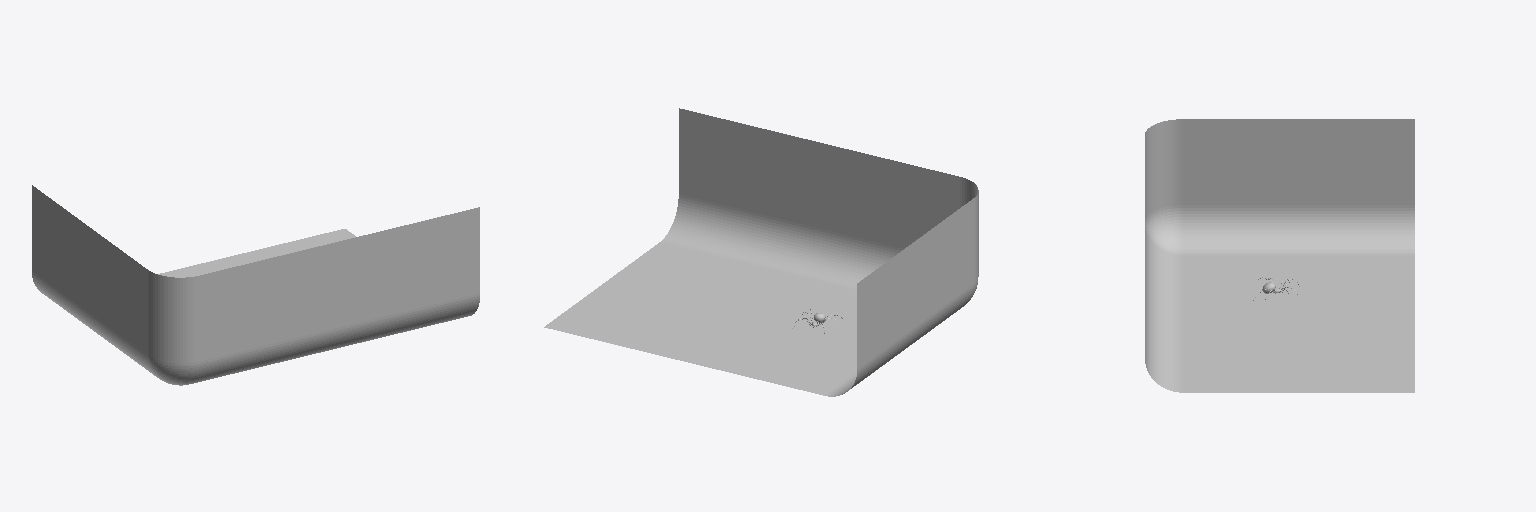
Rendered from uploads_files_2980032_BlackWidowSpider.obj.
3 renders of one model, left to right at view 1: azimuth 30°, elevation 25°; view 2: azimuth 150°, elevation 25°; view 3: azimuth 270°, elevation 25°, orthographic.
Visible parts, largest first — view 1: Plane; view 2: Plane; view 3: Plane.
Boxes of the visible parts, x1=… form: Plane: x1=32, y1=185, x2=479, y2=385; Plane: x1=544, y1=108, x2=978, y2=396; Plane: x1=1145, y1=119, x2=1414, y2=392.
Size of the model in its own units: 20.21 by 7.42 by 15.08.